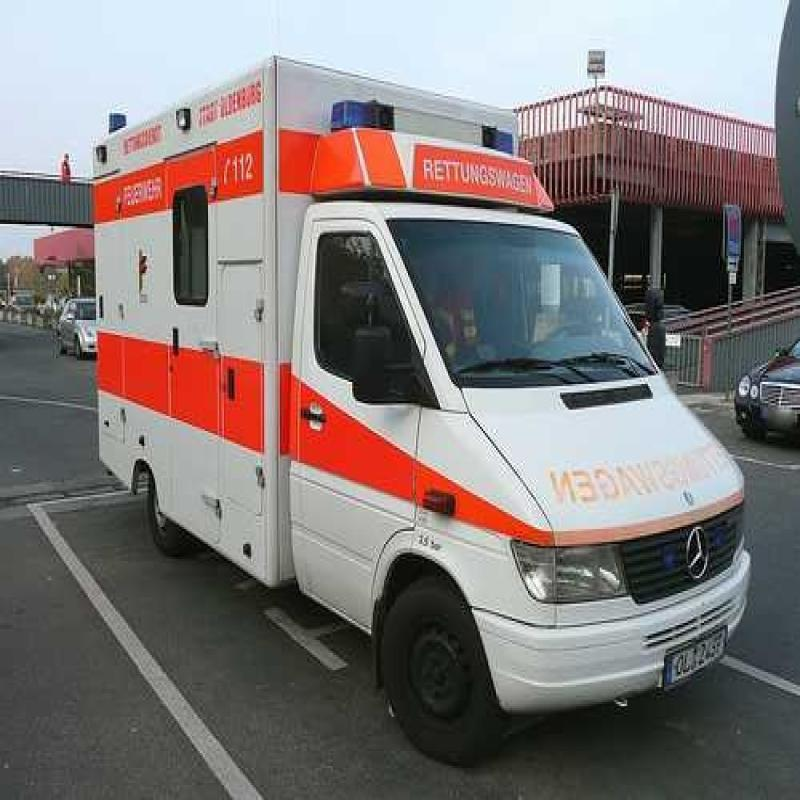AmbulanceSiren: (322, 80, 529, 170)
